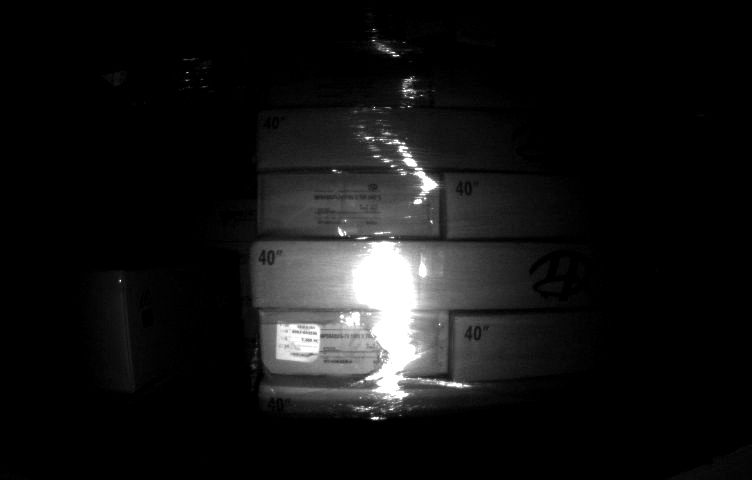True Barcode: (276, 320, 321, 361)
